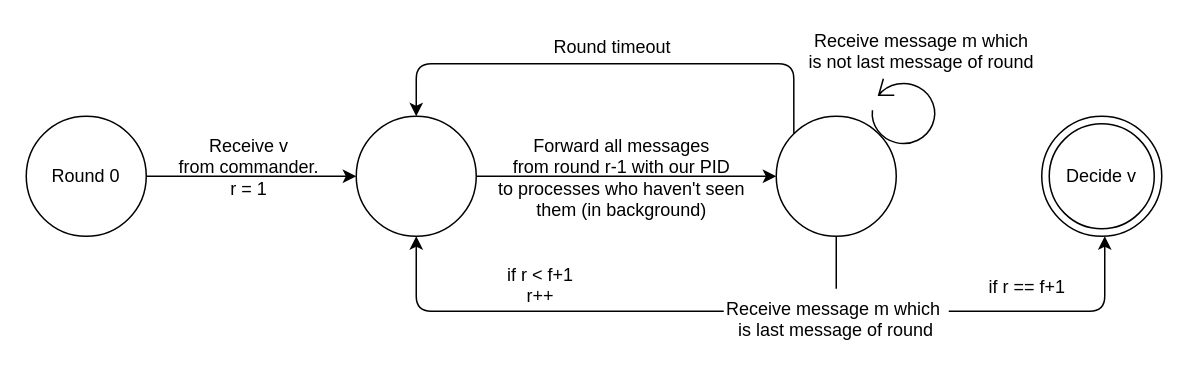
This 1188x368 diagram has some shape labels left out. Each missing label, with the centre of its shape:
"Round r (Receiving)" goes at (835,175).
"Round r (Sending)" goes at (415,175).
